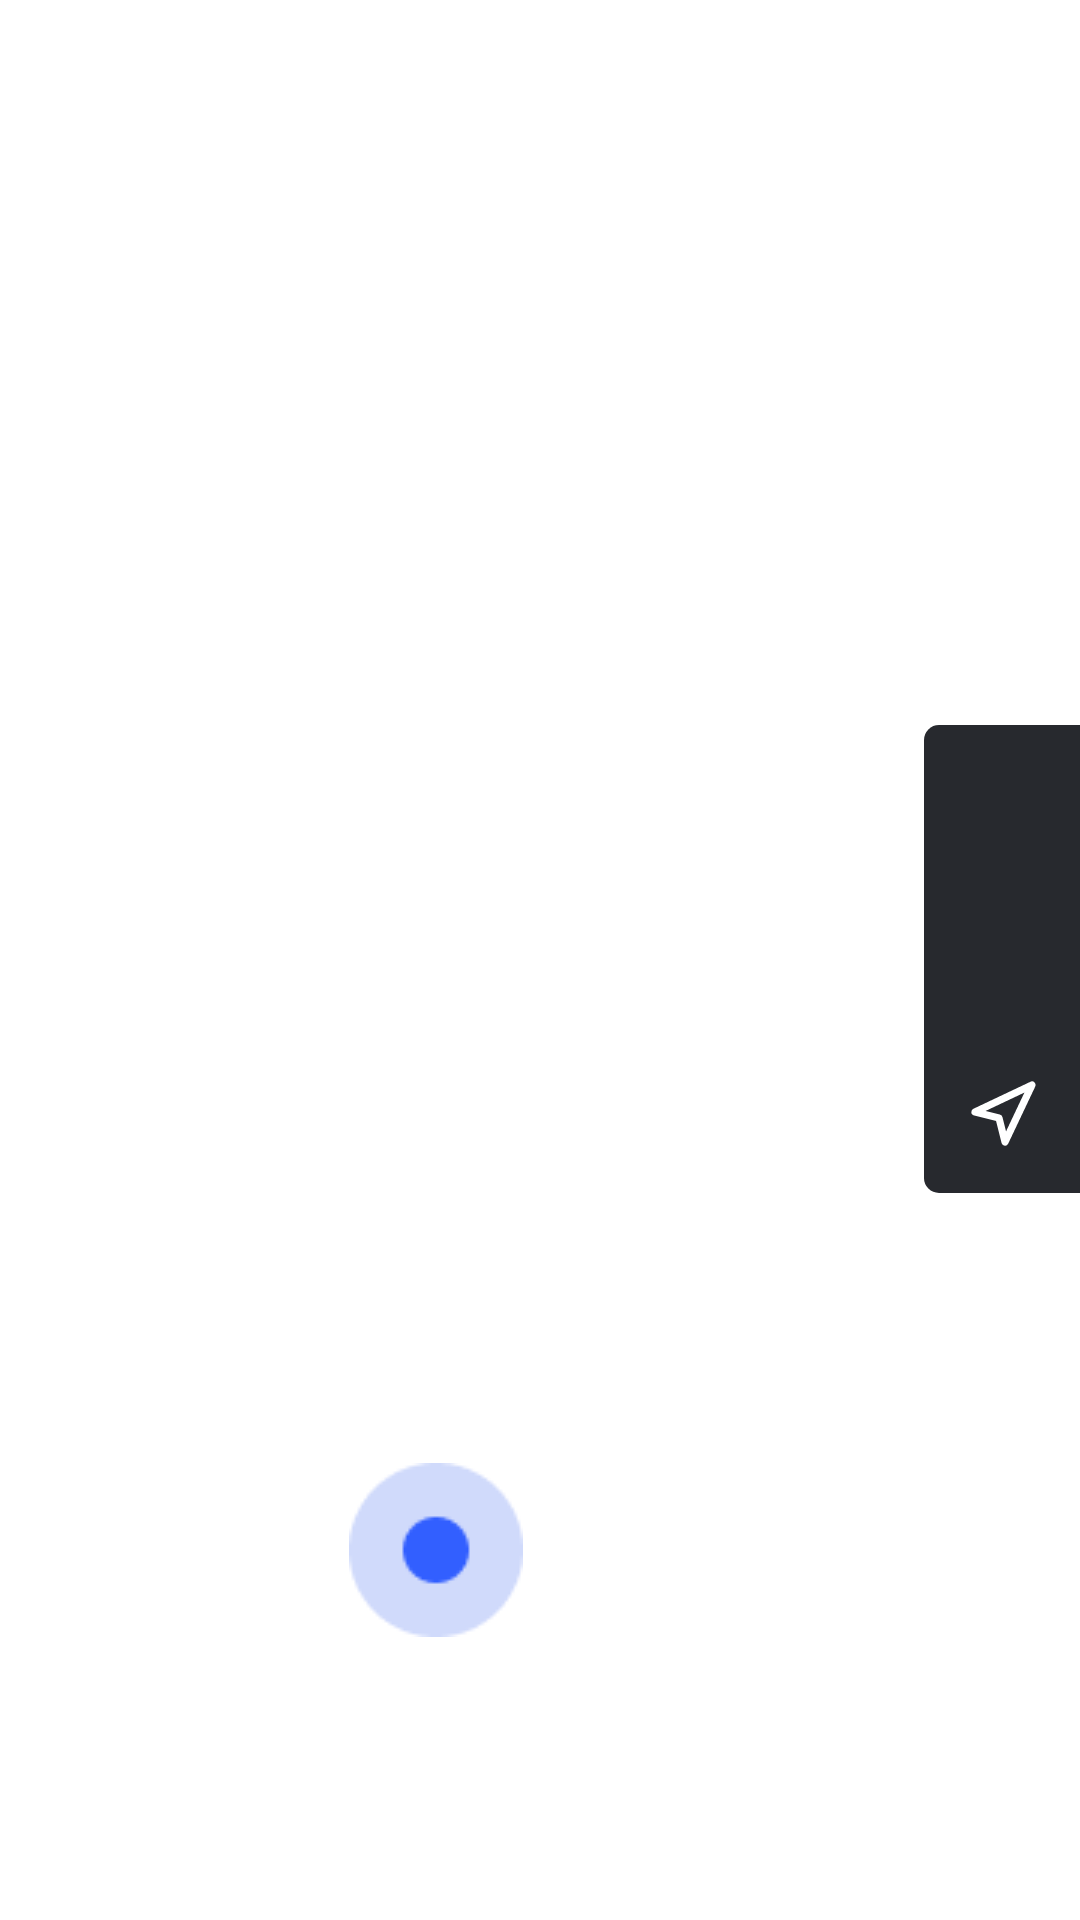

Screen size 1080 × 1920. Icon name, then its center in pixels as [x,y]:
map point: [436,1550]
navigation: [1003,1113]
